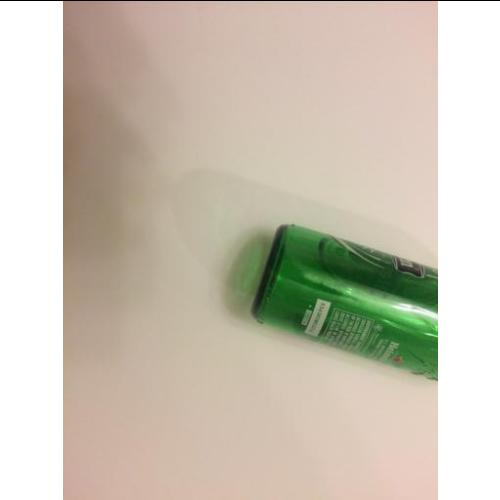metal: (254, 224, 437, 382)
